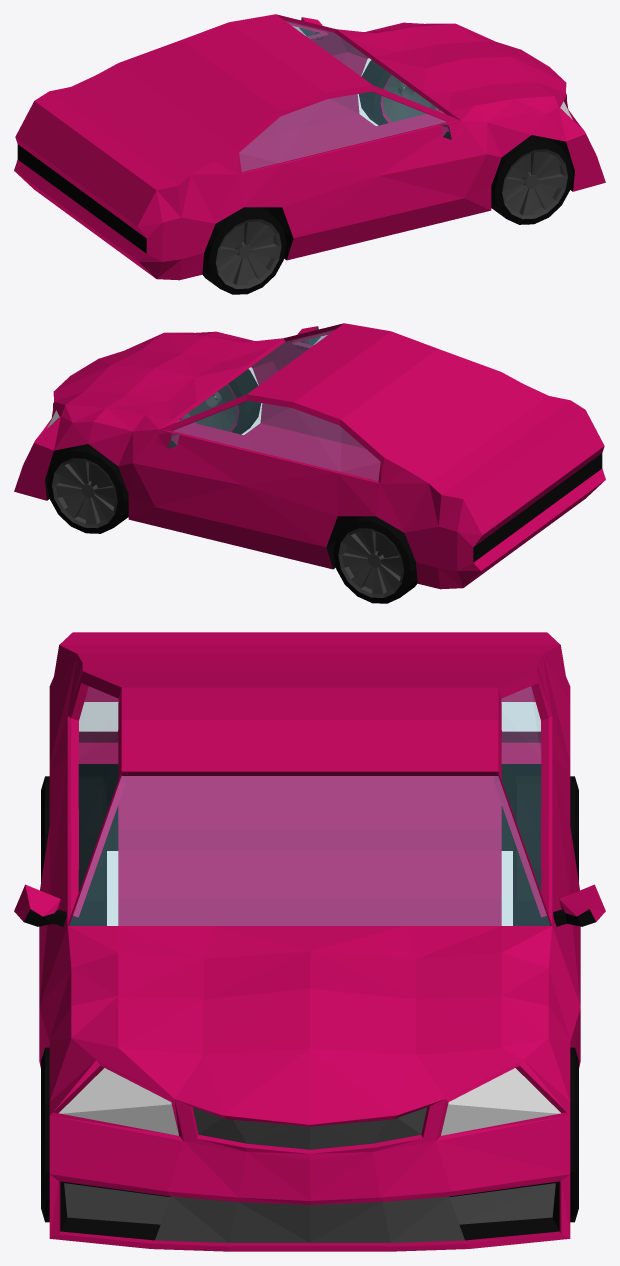
File: PinkCar.obj
The picture shows the model from 3 angles, top to bottom: view 1: azimuth 30°, elevation 25°; view 2: azimuth 150°, elevation 25°; view 3: azimuth 270°, elevation 25°; orthographic projection. The views are drawn at different scales.
Visible parts, largest first — view 1: PinkCar_Material.079, PinkCar_Material.083, PinkCar_Material.081, PinkCar_Material.082; view 2: PinkCar_Material.079, PinkCar_Material.083, PinkCar_Material.081, PinkCar_Material.082; view 3: PinkCar_Material.079, PinkCar_Material.083, PinkCar_Material.084, PinkCar_Material.081, PinkCar_Material.080.
Part boxes in pixels (x1,y1,x2,y2): PinkCar_Material.079: [14, 14, 605, 280]; PinkCar_Material.083: [239, 18, 451, 171]; PinkCar_Material.081: [17, 28, 574, 294]; PinkCar_Material.082: [215, 76, 567, 288]; PinkCar_Material.079: [14, 323, 605, 589]; PinkCar_Material.083: [168, 327, 380, 480]; PinkCar_Material.081: [45, 337, 602, 603]; PinkCar_Material.082: [52, 385, 404, 597]; PinkCar_Material.079: [14, 632, 605, 1251]; PinkCar_Material.083: [69, 686, 550, 925]; PinkCar_Material.084: [64, 1107, 555, 1242]; PinkCar_Material.081: [24, 764, 595, 1240]; PinkCar_Material.080: [59, 1068, 560, 1135].
Bounding box in the file's own units: 4.14 × 1.35 × 2.3.
